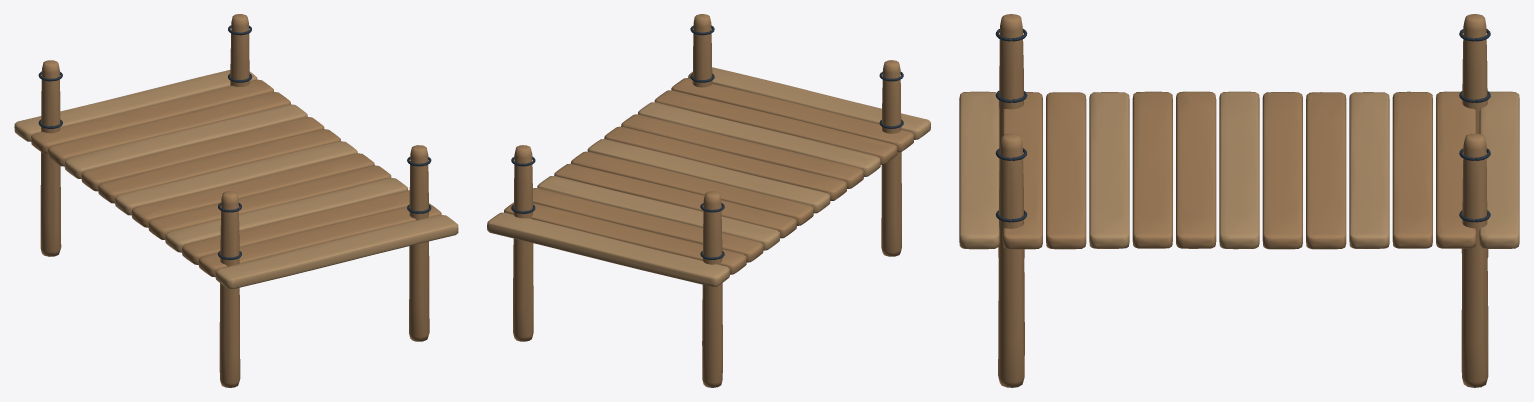
Rendered from Dock_3m_LOD2.glb.
The picture shows the model from 3 angles, left to right: view 1: azimuth 30°, elevation 25°; view 2: azimuth 150°, elevation 25°; view 3: azimuth 270°, elevation 25°; orthographic projection. The views are drawn at different scales.
Parts seen in each view (by area): view 1: Dock_3m_GameMesh; view 2: Dock_3m_GameMesh; view 3: Dock_3m_GameMesh.
Boxes of the visible parts, x1,y1,x2,y2 form: Dock_3m_GameMesh: (14,14,458,387); Dock_3m_GameMesh: (487,14,930,387); Dock_3m_GameMesh: (959,14,1519,387).
Size of the model in its own units: 1.84 by 1.45 by 2.97.
